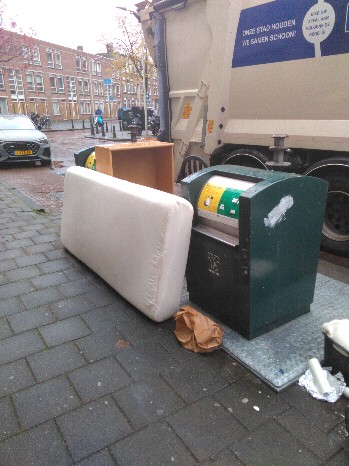Container: (184, 157, 322, 309)
Papier: (175, 311, 216, 355)
Rest: (61, 172, 181, 343), (103, 130, 175, 201)
Voertuig: (0, 116, 57, 162)
